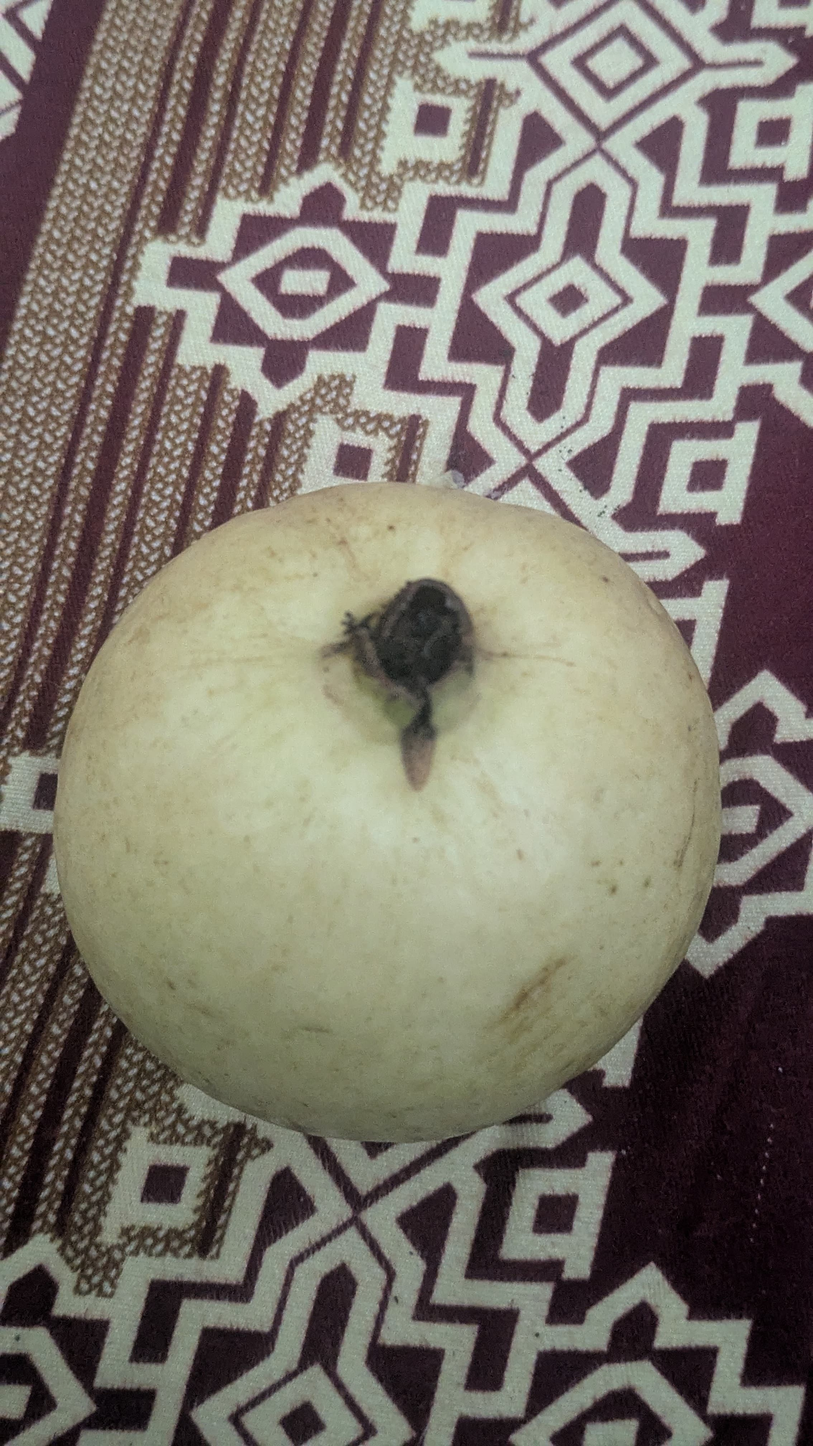guava: (165, 230, 755, 1413)
